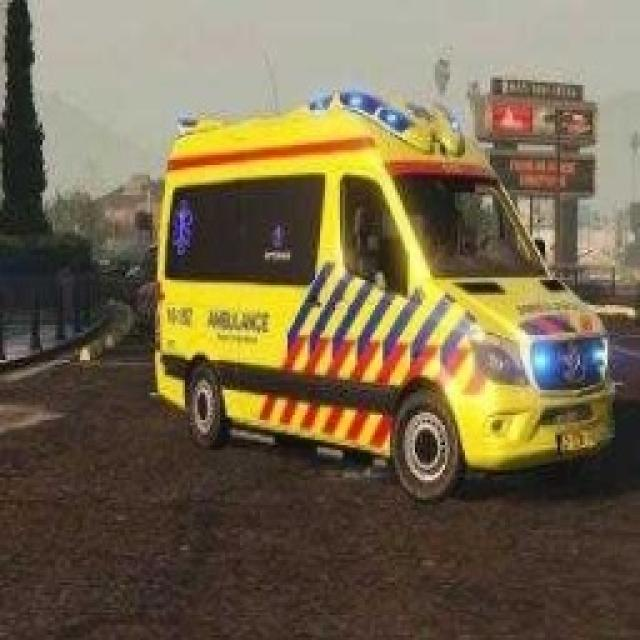emergency-vehicle: (101, 76, 640, 583)
